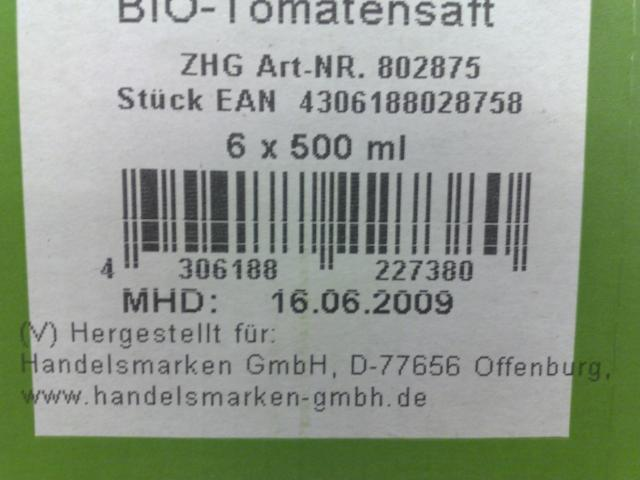Barcode: (91, 163, 548, 285)
